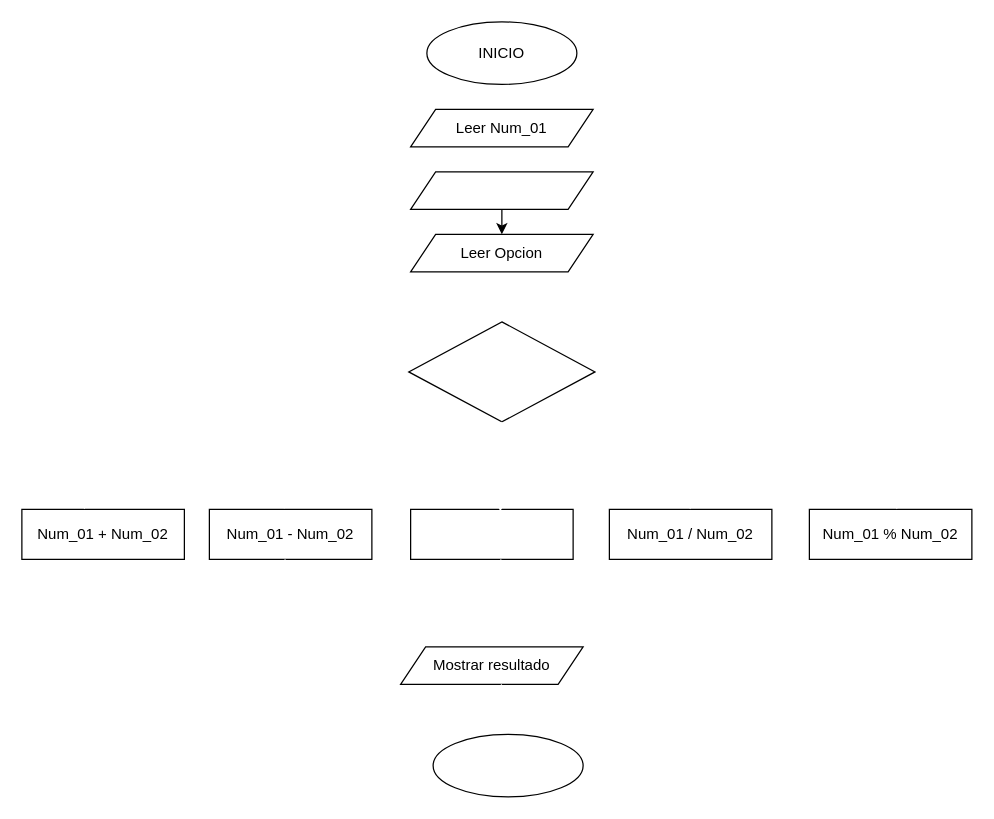
This 994x819 diagram has some shape labels left out. Here are the shapes that lost their labels. From the top down, the centre of each, then its label:
At pixel 501 190: "Leer Num_02".
At pixel 501 371: "Cual es su opcion?".
At pixel 491 533: "Num_01 * Num_02".
At pixel 507 765: "FIN".
